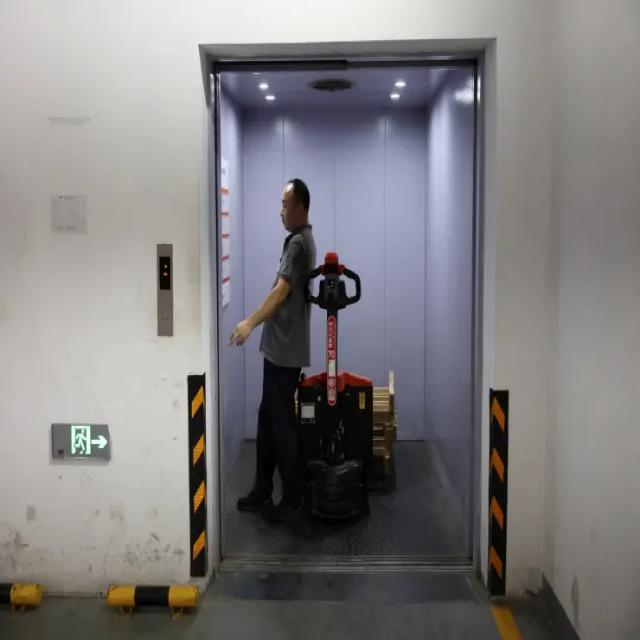elevator: (150, 12, 520, 611)
